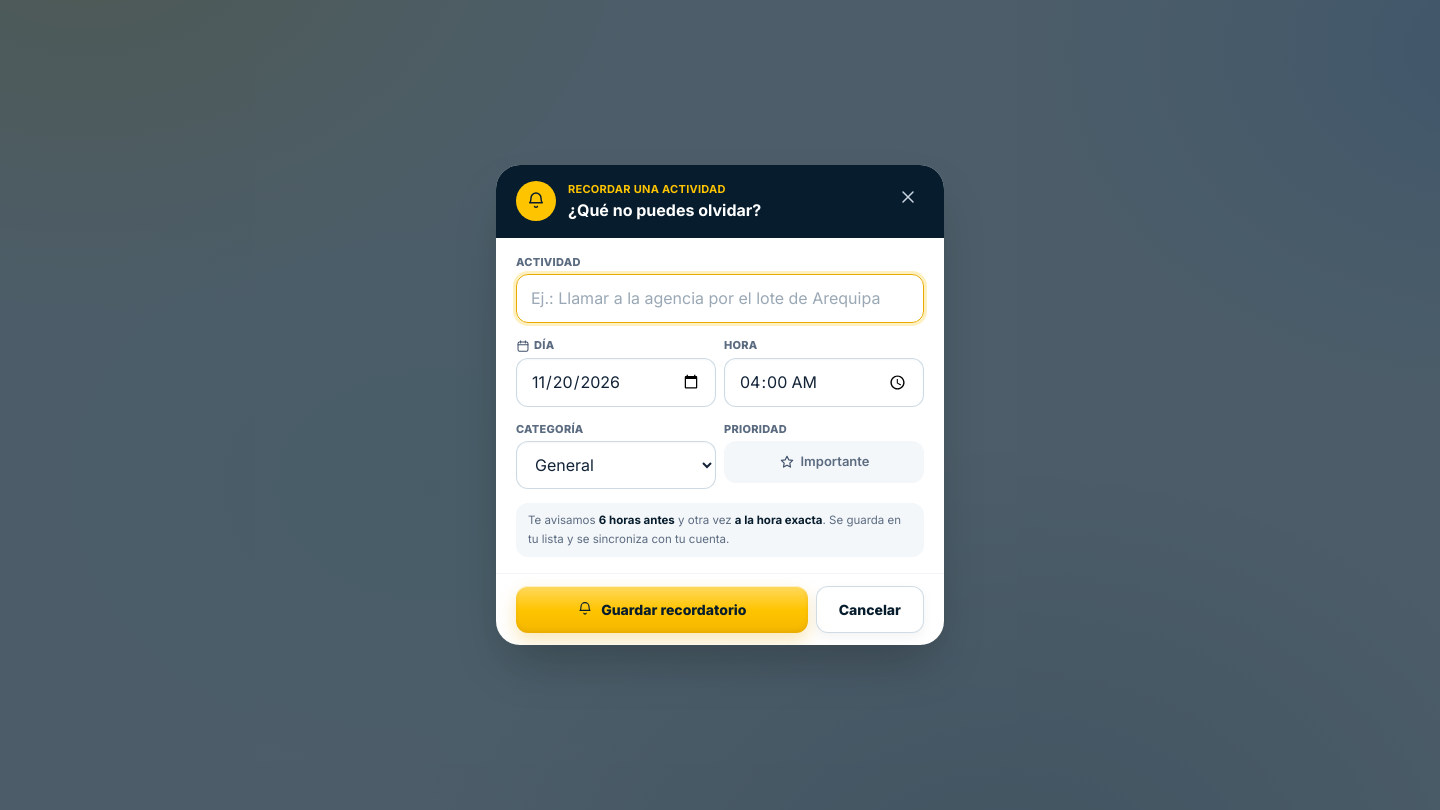
Test: pide la actividad antes de guardar
Click the button "Guardar recordatorio" at (662, 609), box [516,586,808,632]
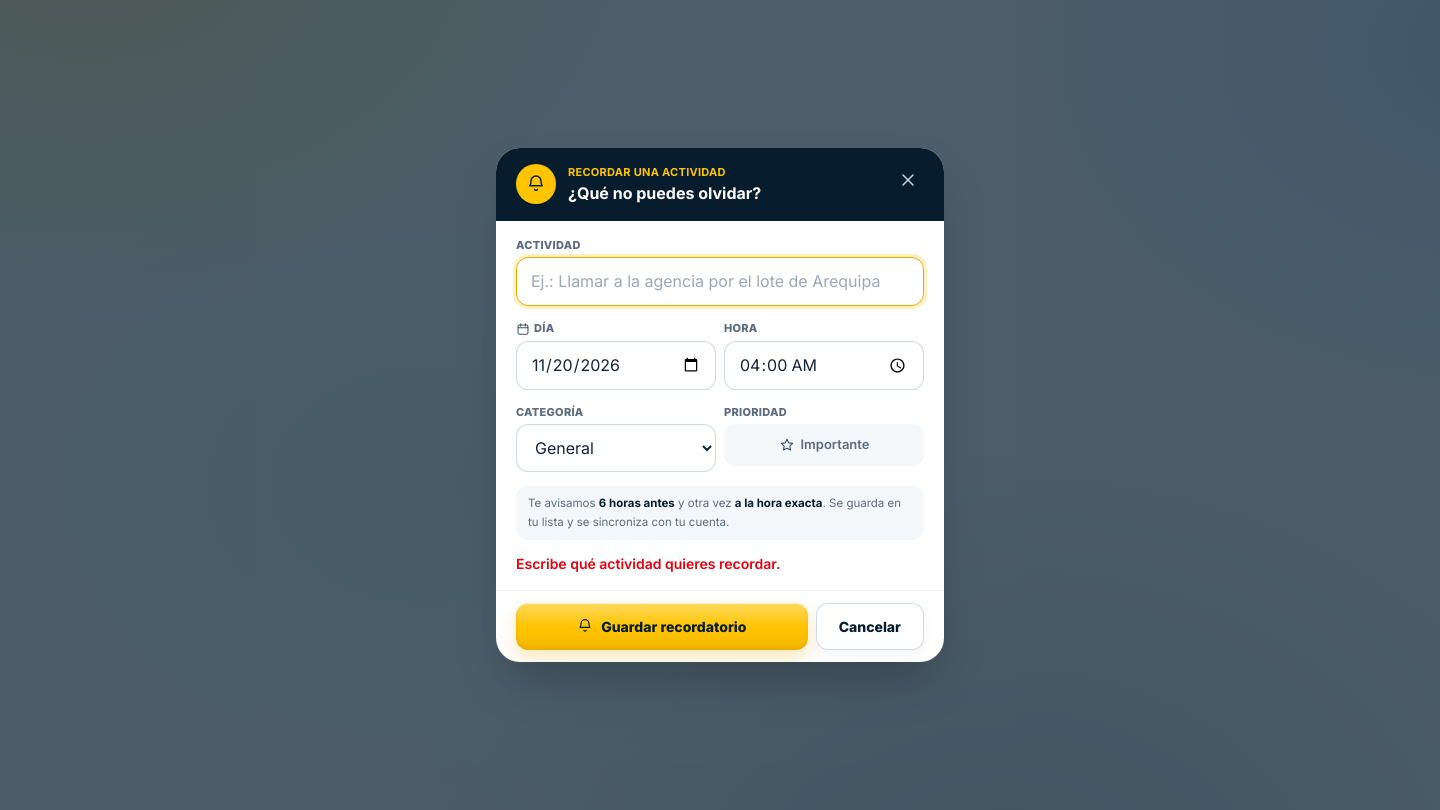
expect the message shows "Escribe qué actividad": met, box [516,554,780,572]
